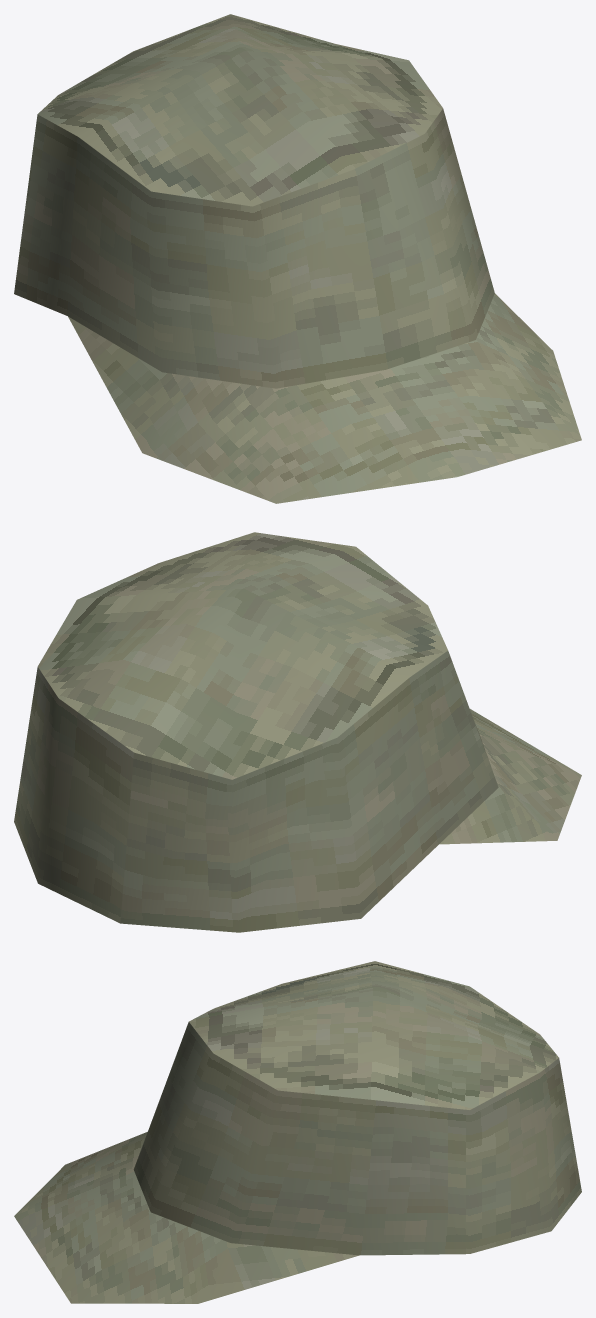
The model's file is UK_Cap_Green.glb.
3 views of the same model, one above another, from view 1: azimuth 30°, elevation 25°; view 2: azimuth 150°, elevation 25°; view 3: azimuth 270°, elevation 25° (orthographic). The views are drawn at different scales.
Visible parts, largest first — view 1: UK_CAP_GREEN; view 2: UK_CAP_GREEN; view 3: UK_CAP_GREEN.
Part boxes in pixels (bbox=[...]): UK_CAP_GREEN: bbox=[14, 14, 581, 503]; UK_CAP_GREEN: bbox=[14, 532, 581, 932]; UK_CAP_GREEN: bbox=[14, 961, 581, 1303].
Size of the model in its own units: 0.21 by 0.145 by 0.299.
Materials: 1 (1 with a texture image).
